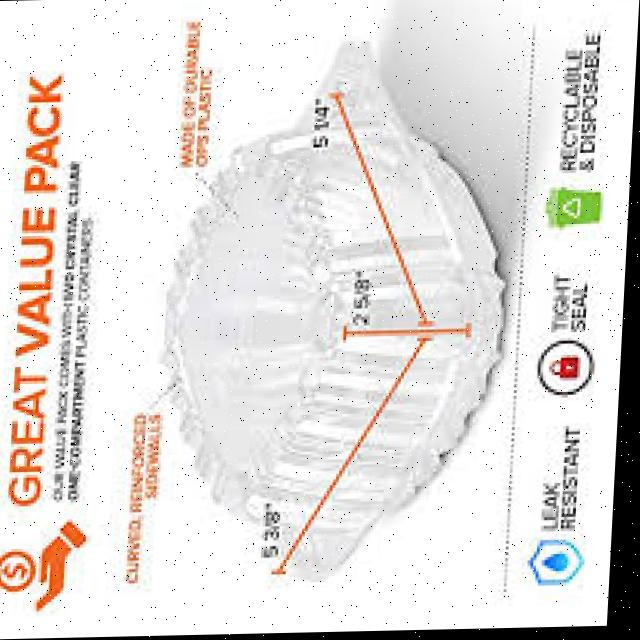disposable: (137, 35, 536, 569)
